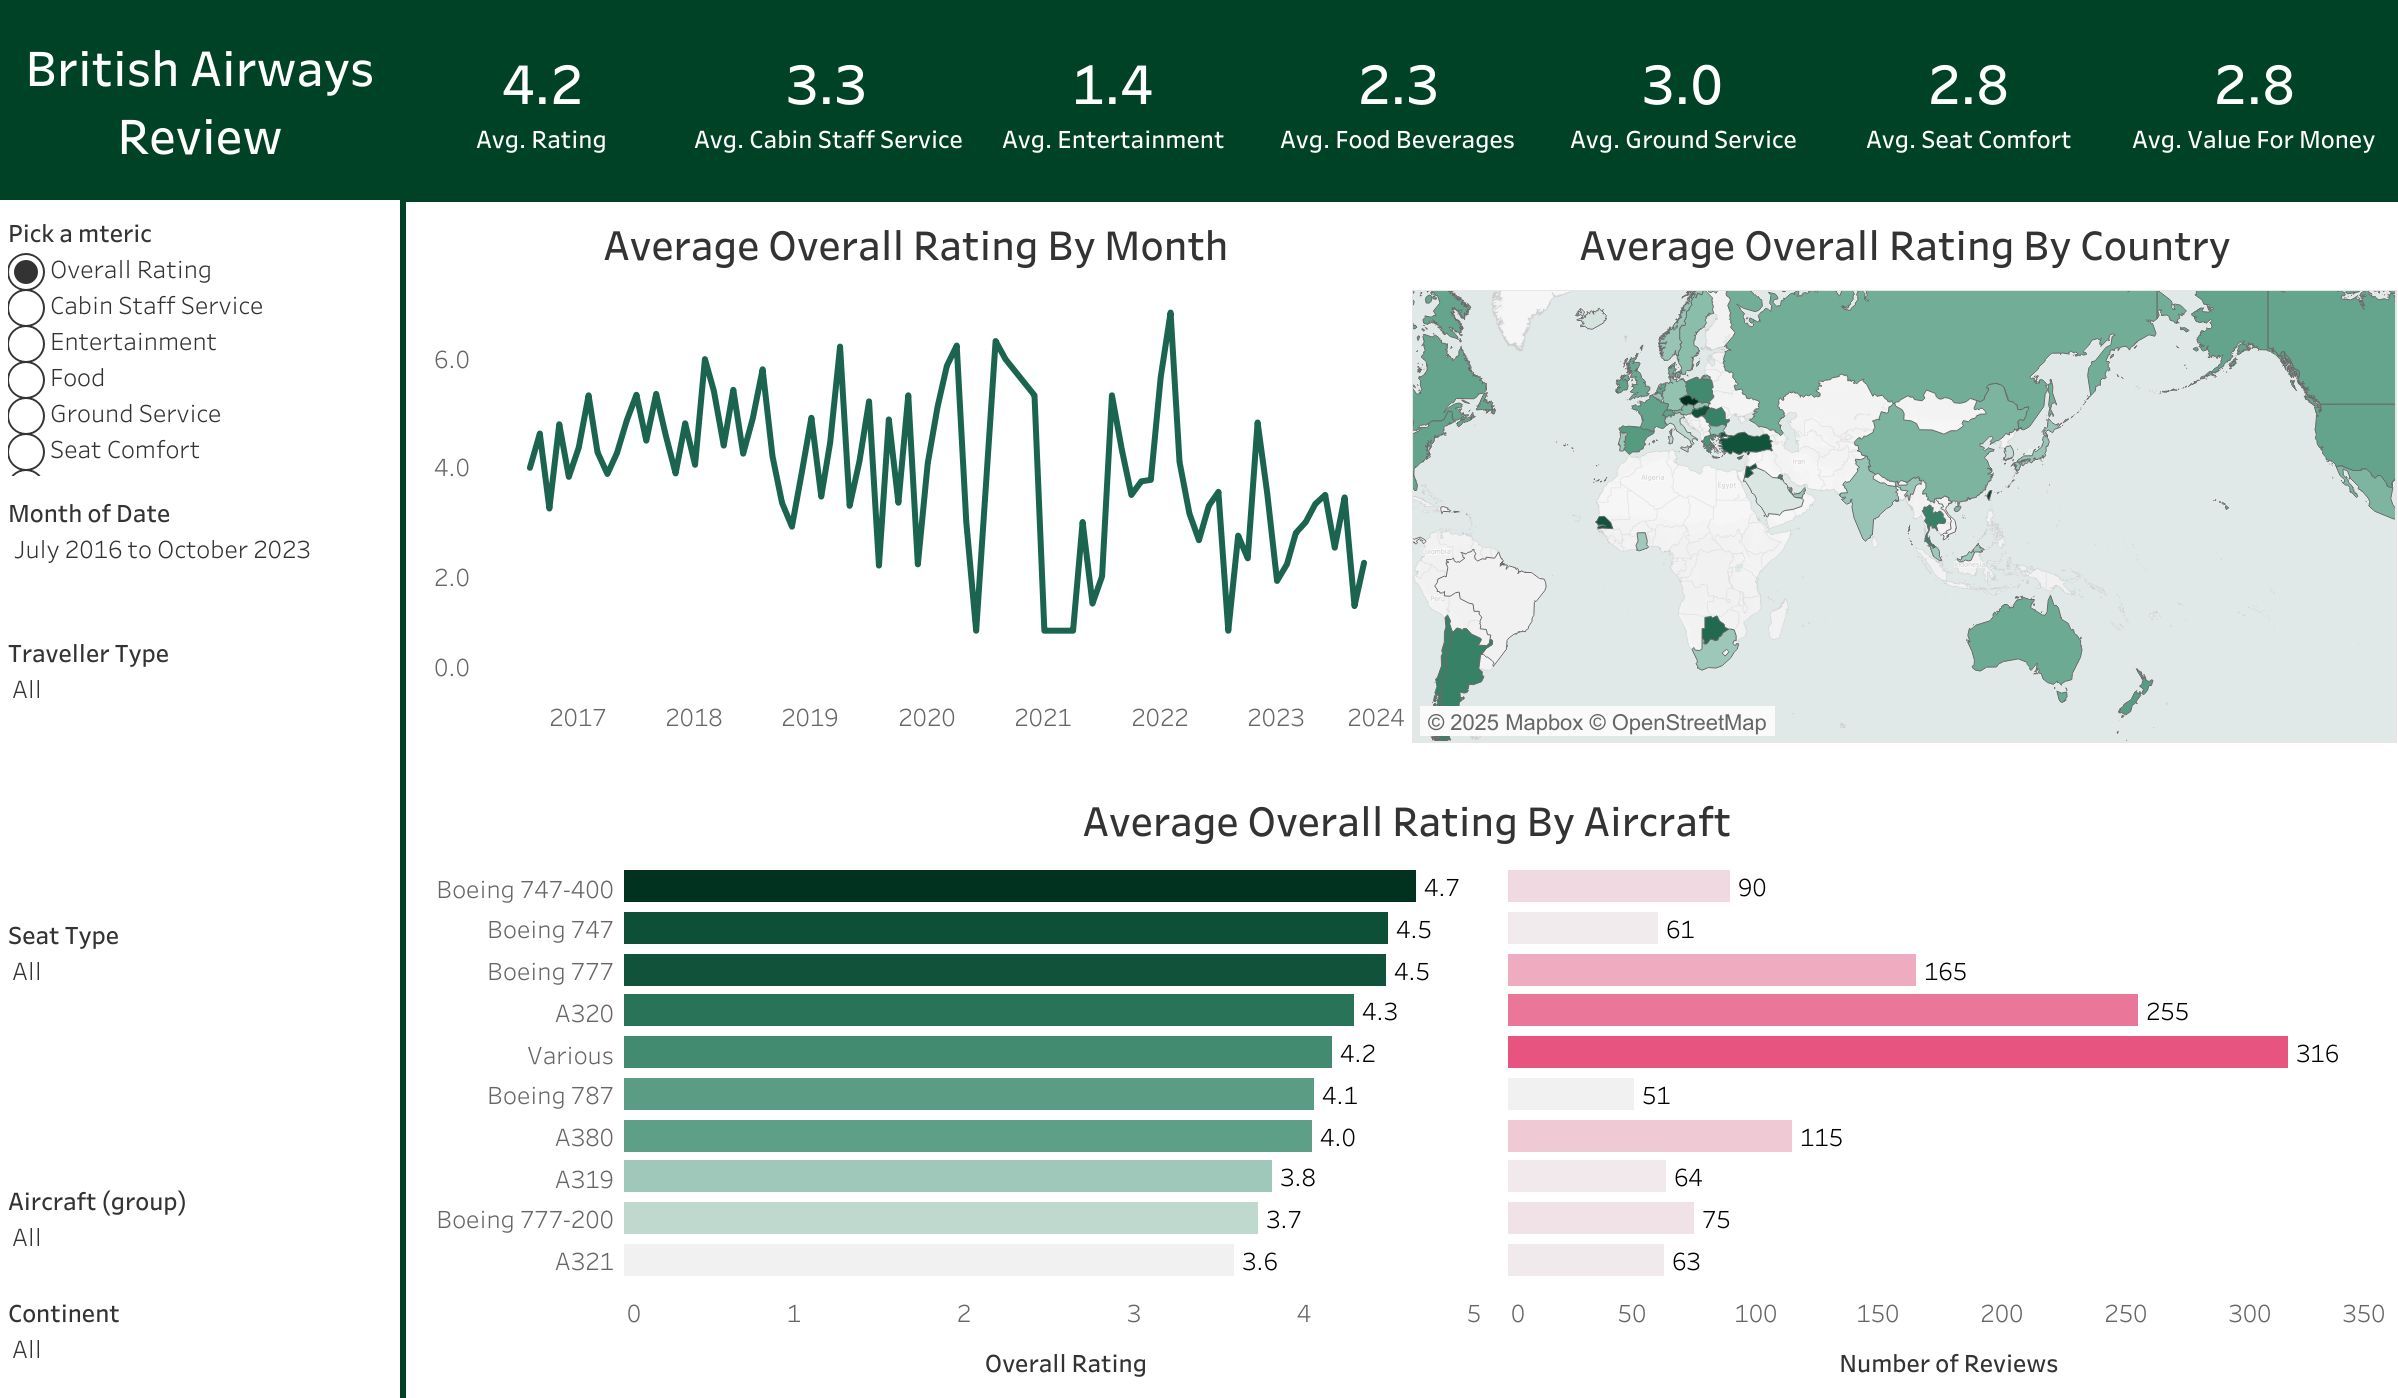

The dashboard page shown, as its layout file describes it:
{"tool":"tableau","page":{"name":"Dashboard 1","canvas":[1200,700],"ordinal":0},"visuals":[{"type":"text","box":[0,0,200,100]},{"type":"worksheet","title":"Summary","mark":"Automatic","box":[200,0,999,100]},{"type":"blank","box":[200,100,3,600]},{"type":"parameter","param":"[Parameters].[Parameter 1]","box":[0,102,200,150]},{"type":"worksheet","title":"Month","mark":"Automatic","rows":["Calculation_4041839972718161920"],"cols":["date"],"box":[212,102,492,270]},{"type":"worksheet","title":"Map","mark":"Automatic","box":[706,102,493,270]},{"type":"filter","title":"Map","param":"[federated.1a4i7vq05bwkoj16ory3n189tba9].[tmn:date:qk]","box":[0,252,200,69]},{"type":"filter","title":"Map","param":"[federated.1a4i7vq05bwkoj16ory3n189tba9].[none:traveller_type:nk]","box":[0,321,200,146]},{"type":"worksheet","title":"Aircraft","mark":"Automatic","cols":["Calculation_4041839972718161920","ba_reviews.csv_D519B698B61743C9991F9DD57EDC80ED"],"box":[212,390,983,307]},{"type":"filter","title":"Map","param":"[federated.1a4i7vq05bwkoj16ory3n189tba9].[none:seat_type:nk]","box":[0,467,200,127]},{"type":"filter","title":"Map","param":"[federated.1a4i7vq05bwkoj16ory3n189tba9].[Aircraft (group)]","box":[0,594,200,52]},{"type":"filter","title":"Map","param":"[federated.1a4i7vq05bwkoj16ory3n189tba9].[none:Continent:nk]","box":[0,646,200,52]}]}

Visuals, with their boxes in screenshot pixels (x1, y1, x2, y2), scaled from the page's 1200x700 canvas onto the 2398x1398 screenshot:
text: box(0, 0, 400, 200)
"Summary" worksheet: box(400, 0, 2396, 200)
blank: box(400, 200, 406, 1397)
parameter: box(0, 204, 400, 503)
"Month" worksheet: box(424, 204, 1407, 743)
"Map" worksheet: box(1411, 204, 2396, 743)
"Map" filter: box(0, 503, 400, 641)
"Map" filter: box(0, 641, 400, 933)
"Aircraft" worksheet: box(424, 779, 2388, 1392)
"Map" filter: box(0, 933, 400, 1186)
"Map" filter: box(0, 1186, 400, 1290)
"Map" filter: box(0, 1290, 400, 1394)
